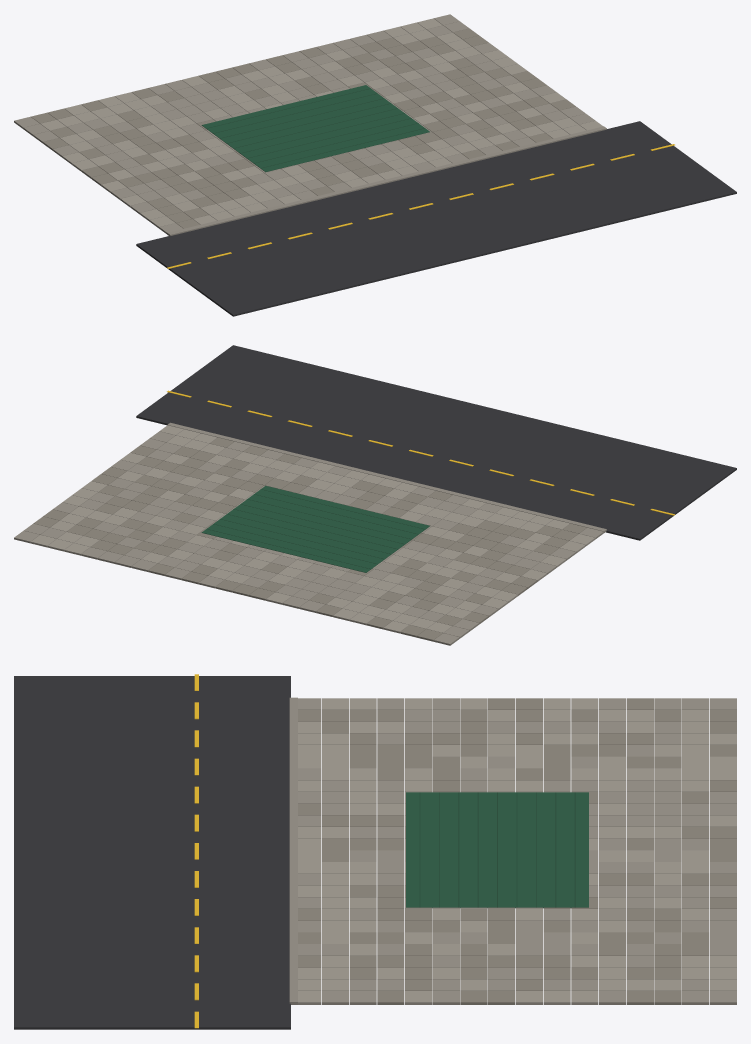
Rendered from ground.glb.
The picture shows the model from 3 angles, top to bottom: view 1: azimuth 30°, elevation 25°; view 2: azimuth 150°, elevation 25°; view 3: azimuth 270°, elevation 25°; orthographic projection. The views are drawn at different scales.
Parts seen in each view (by area): view 1: ground; view 2: ground; view 3: ground.
Part boxes in pixels (box(x1,y1,x2,y2)): ground: box(14, 14, 736, 316); ground: box(14, 345, 736, 645); ground: box(14, 674, 736, 1029).
Size of the model in its own units: 30.2 by 0.1745 by 26.09.
